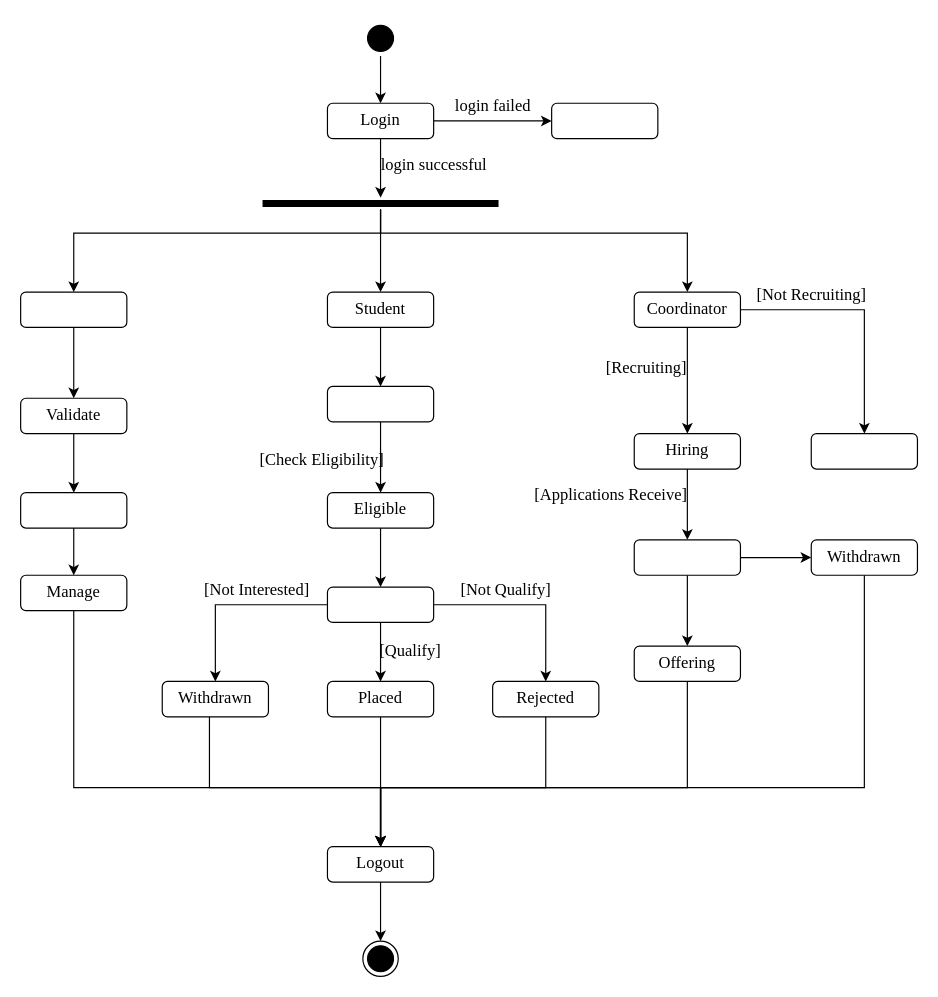
Some shapes in this 938 by 997 pixel diagram are drawn without their labels. Here are the shapes that lost their labels. From the top down, the box of each, then its label:
(550, 102, 658, 139): Invalid User
(19, 291, 127, 327): Admin
(326, 385, 434, 422): Unplaced
(810, 432, 917, 469): Not Hiring
(19, 491, 127, 528): Evaluation
(633, 539, 740, 575): Applicants Review
(326, 586, 434, 622): Applied
